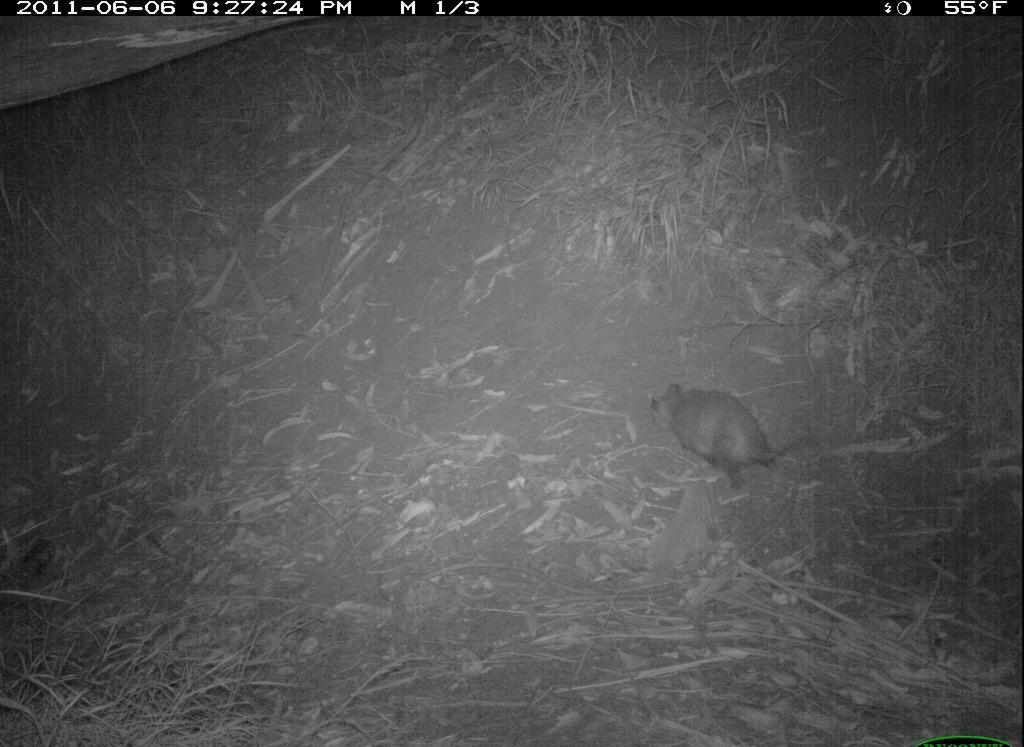opossum: (638, 367, 836, 495)
